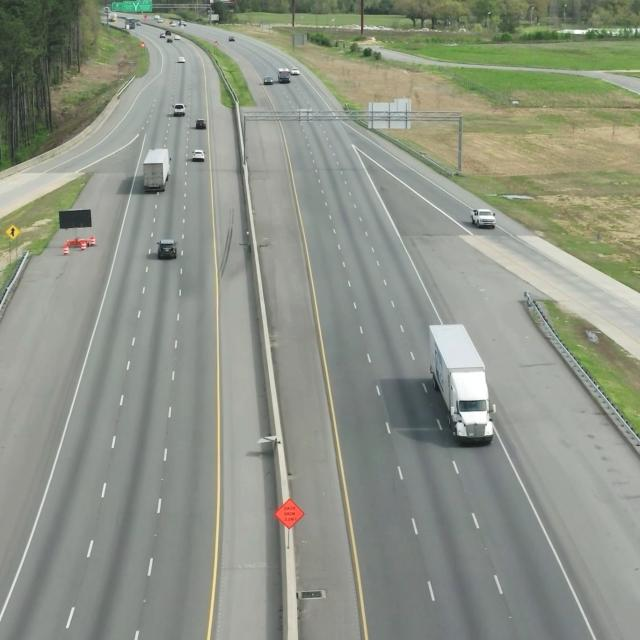Vehicle: (422, 322, 495, 450), (142, 149, 172, 192), (466, 206, 499, 232), (154, 237, 178, 261), (190, 147, 207, 163)
